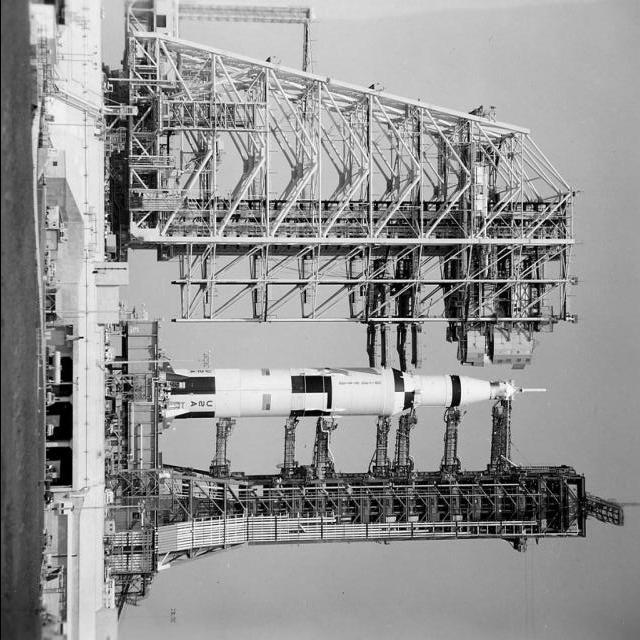missile: (155, 363, 512, 423)
